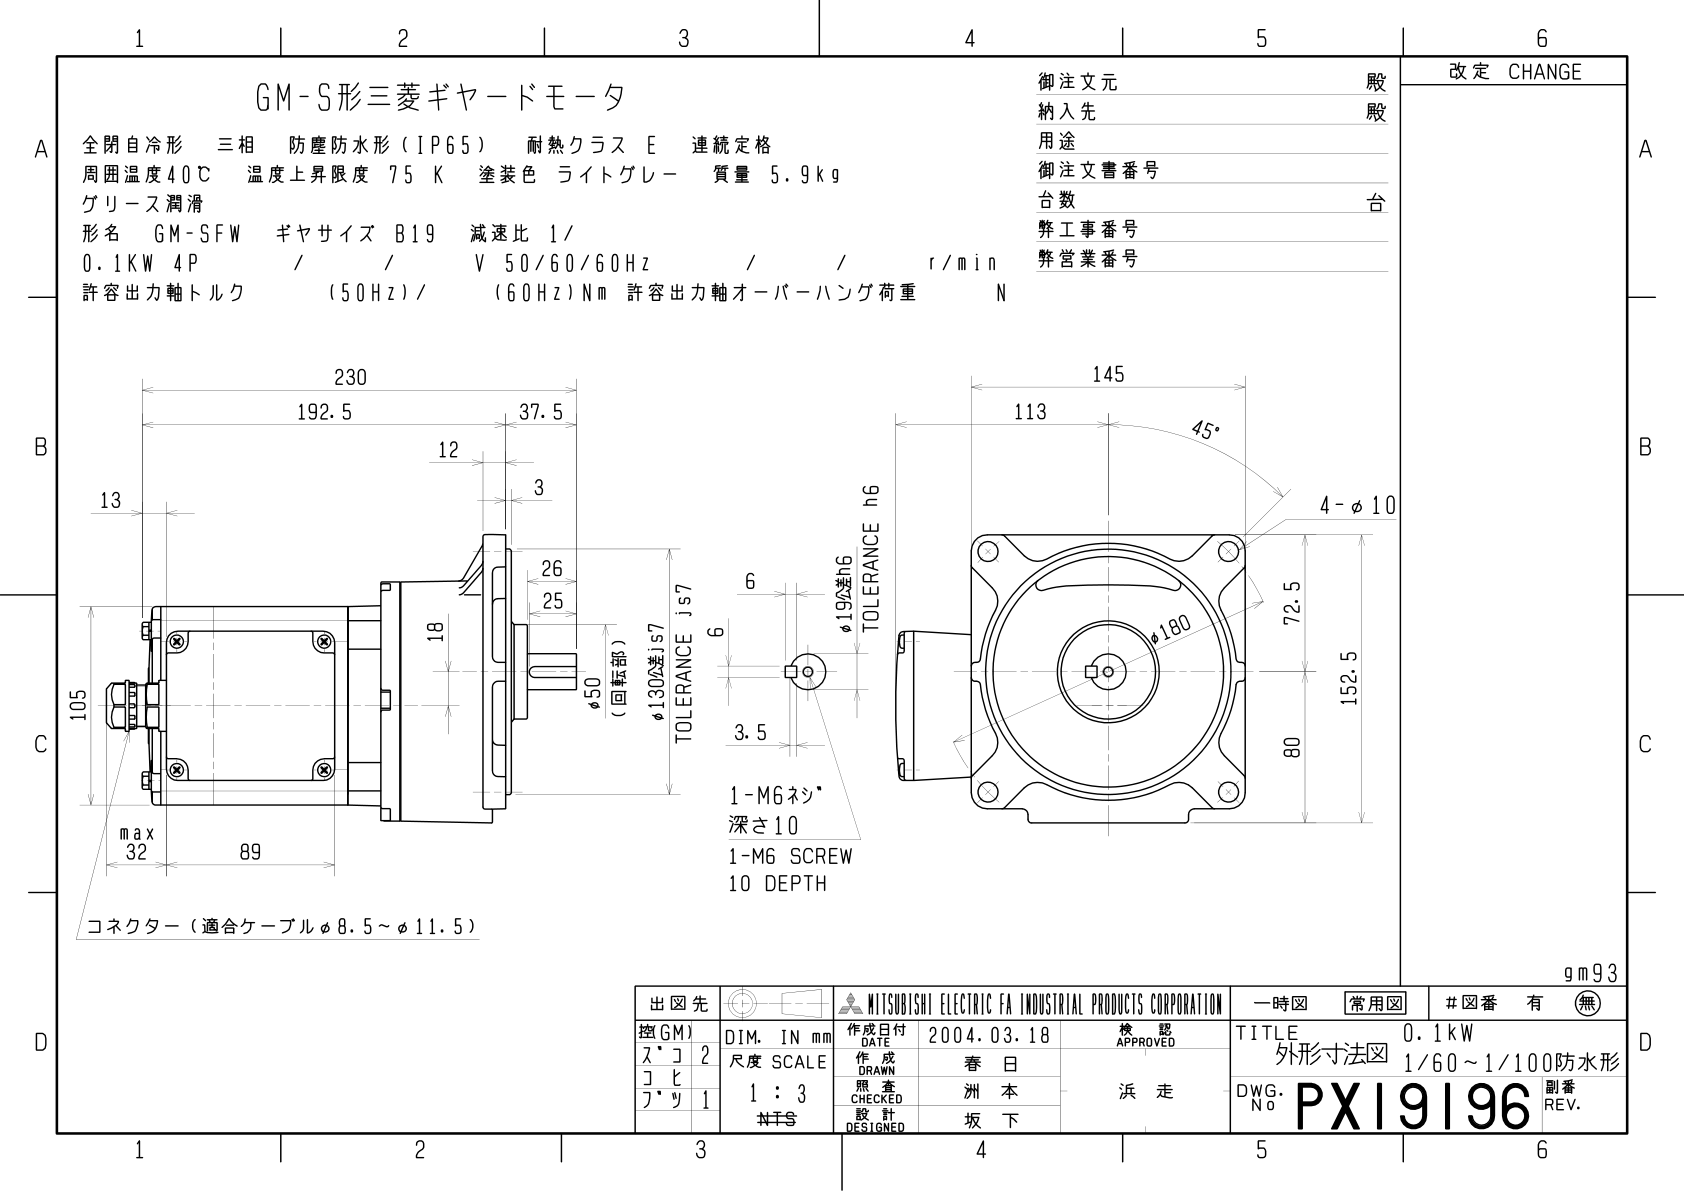GM_S_IP65＿三相_フランジ: (67, 354, 1399, 951)
